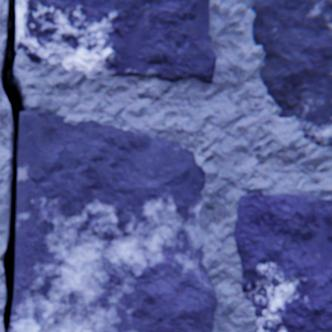brick: (8, 112, 216, 331), (16, 0, 215, 84), (233, 194, 331, 331), (250, 0, 331, 146)
crack: (0, 0, 26, 331)
